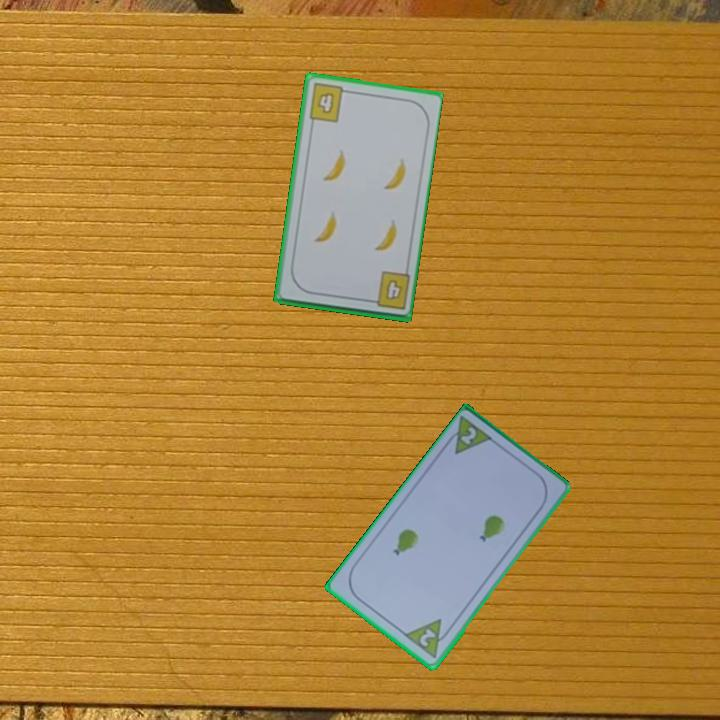2p: (401, 615, 455, 662), (456, 424, 479, 448)
4b: (305, 80, 352, 125), (364, 268, 412, 312)
